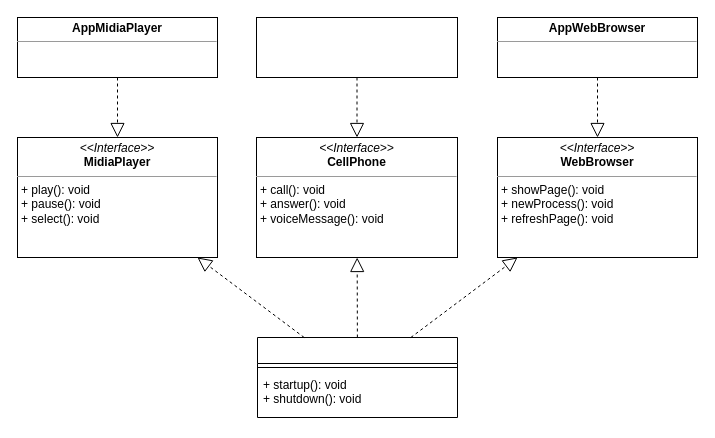
The diagram is 715 pixels wide and 438 high, and some of its shapes have lost their labels. Each missing label, with the box of its shape:
AppCellPhone: (256, 16, 458, 78)
Iphone2007: (256, 336, 458, 418)
